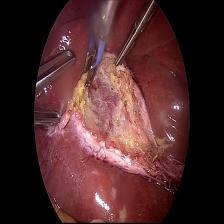Bipolar: (79, 17, 108, 101)
Grasper: (32, 43, 78, 130), (113, 1, 159, 72)
